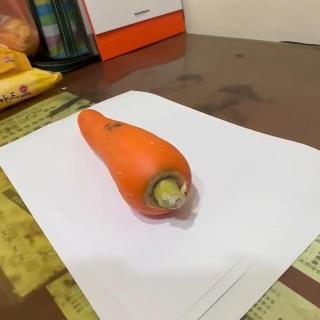carrot: (77, 109, 192, 218)
